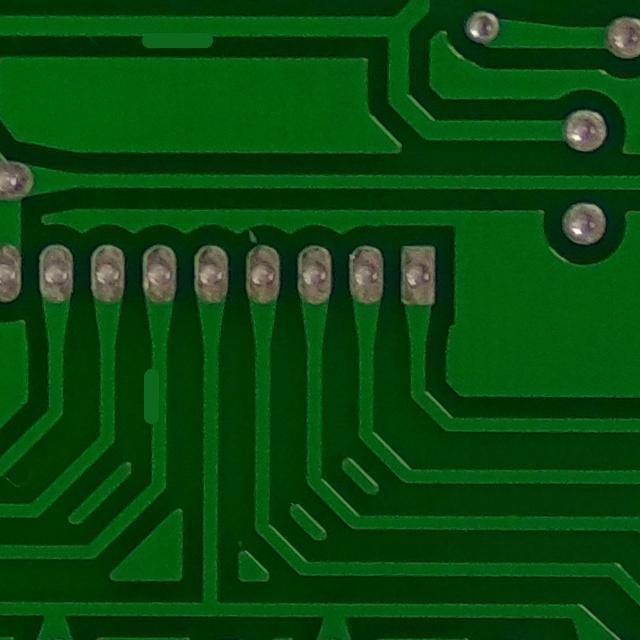spur: (118, 3, 233, 61), (124, 354, 175, 434)
